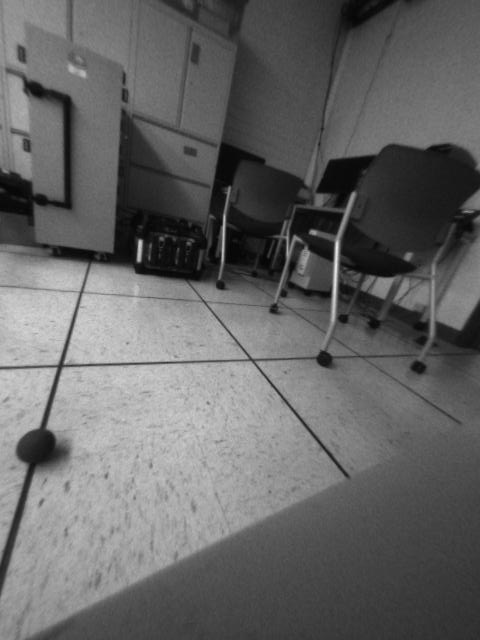dogtoy: (9, 422, 67, 469)
